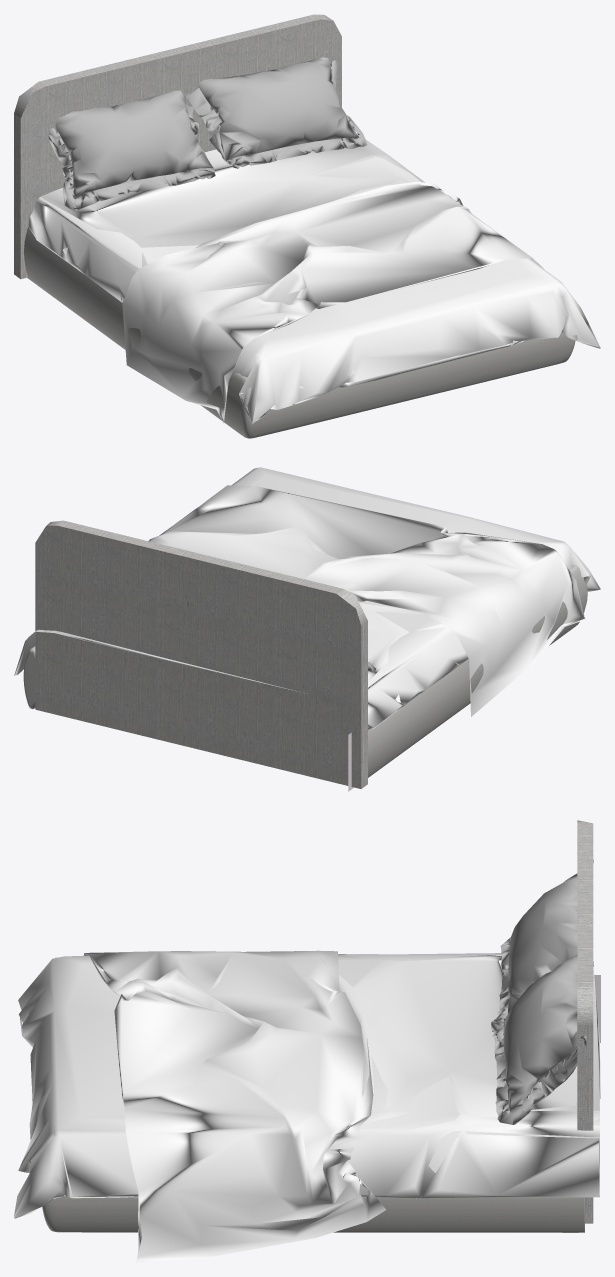
File: bed.glb
3 views of the same model, one above another, from view 1: azimuth 30°, elevation 25°; view 2: azimuth 150°, elevation 25°; view 3: azimuth 270°, elevation 25° (orthographic). The views are drawn at different scales.
Visible parts, largest first — view 1: Geom3D (×3); view 2: Geom3D (×2); view 3: Geom3D (×3).
Boxes of the visible parts, box(x1,y1,x2,y2) form: Geom3D (×3): box(14, 14, 600, 438); Geom3D (×2): box(14, 467, 600, 788); Geom3D (×3): box(14, 820, 600, 1262).
Bounding box in the file's own units: 1.58 × 0.8291 × 1.82.
Materials: 4 (1 with a texture image).
